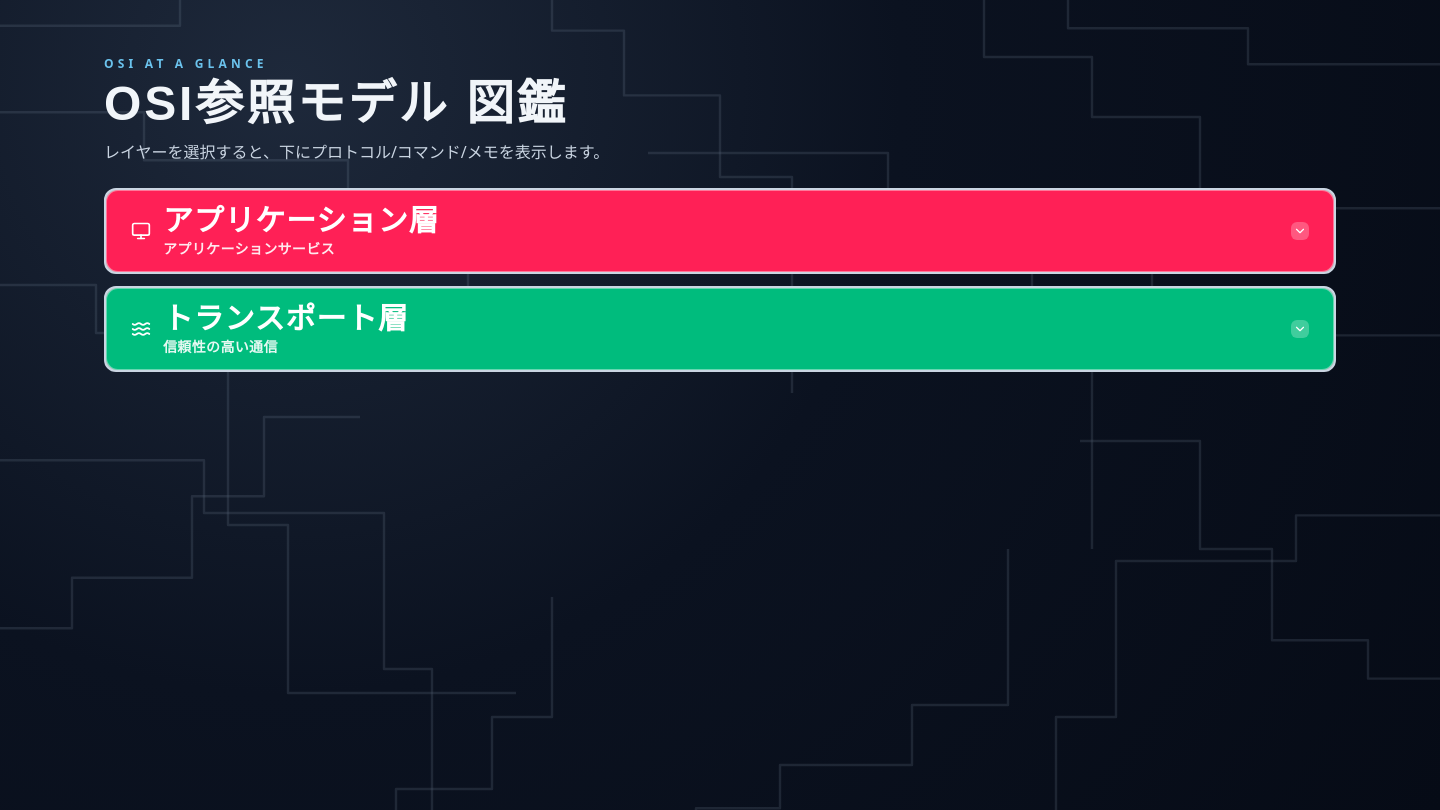
Test: OsiExplorer › is closed by default and toggles layer by click
Click the button with aria-label "L4" at (286, 318), box [106, 288, 1334, 370]
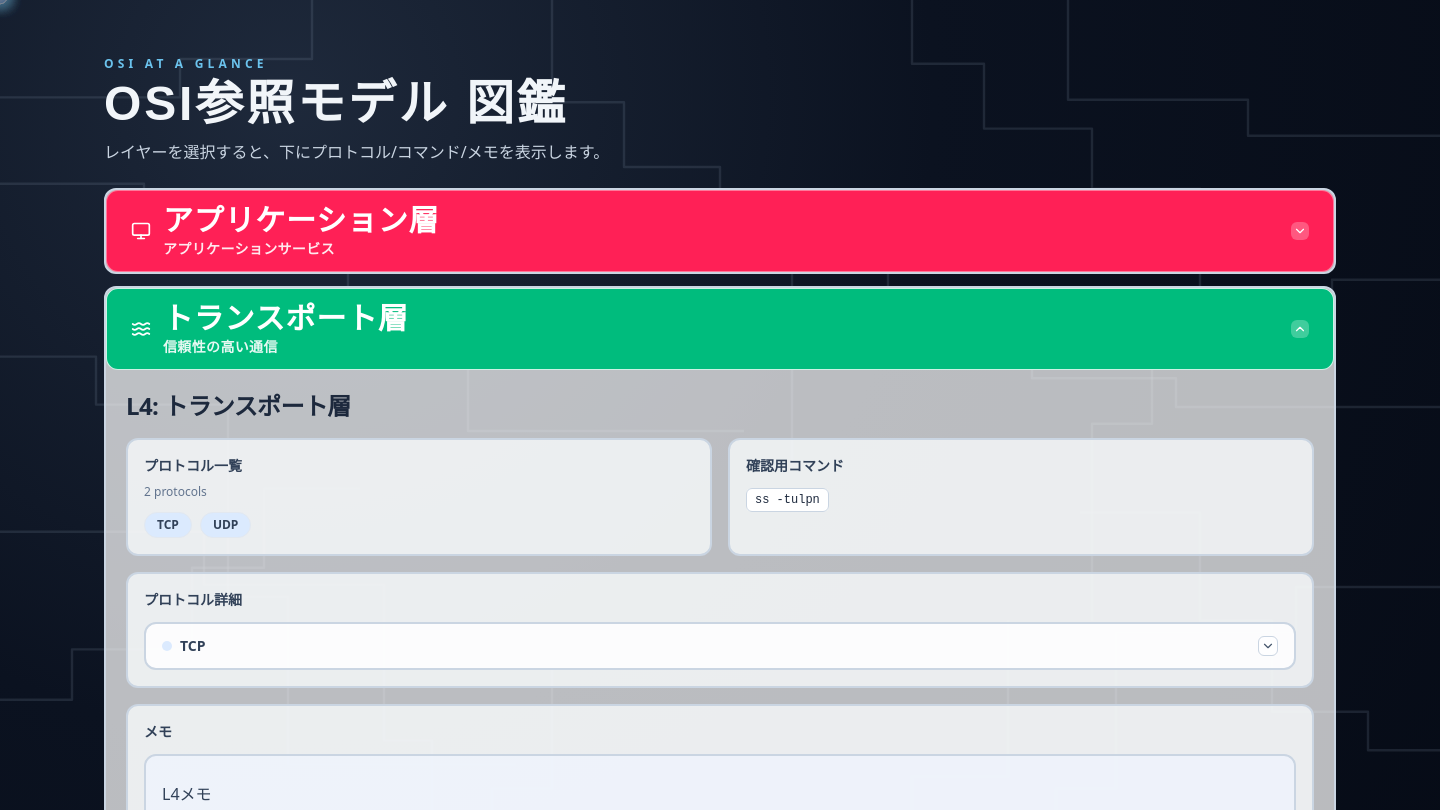
Now the heading "L4: トランスポート層" is shown, box [126, 389, 351, 422]
Now the text "ss -tulpn" is shown, box [746, 488, 829, 512]
Click the button with aria-label "L4" at (286, 318), box [106, 288, 1334, 370]
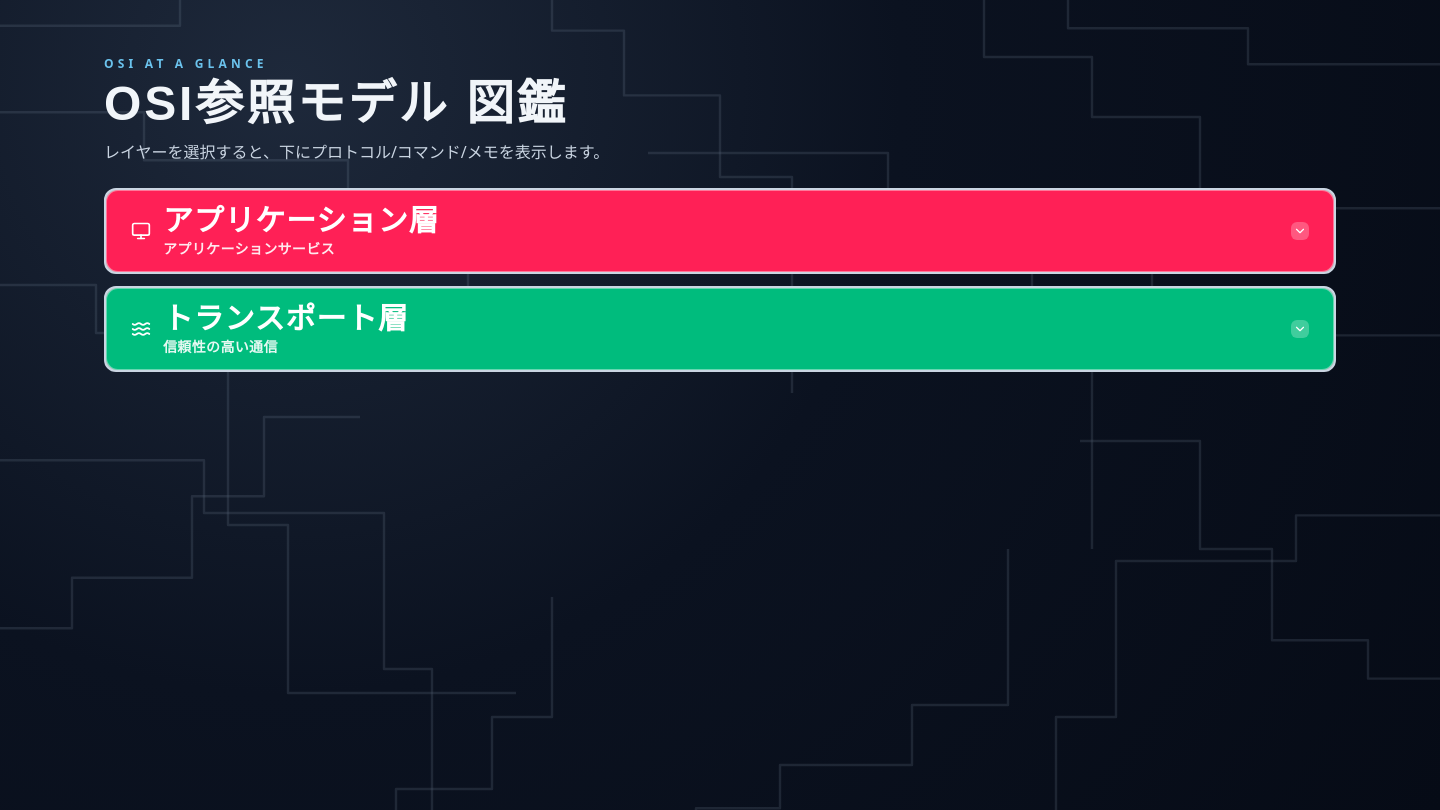
Now the heading "L4: トランスポート層" is gone
